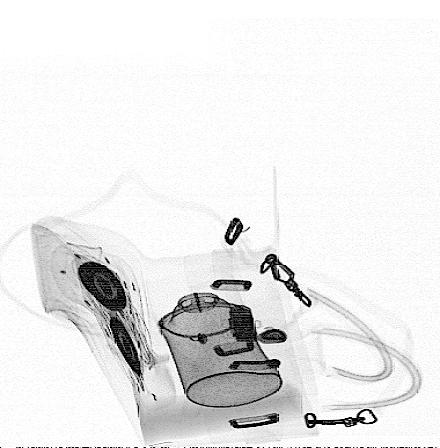Sprayer: (146, 273, 283, 408)
